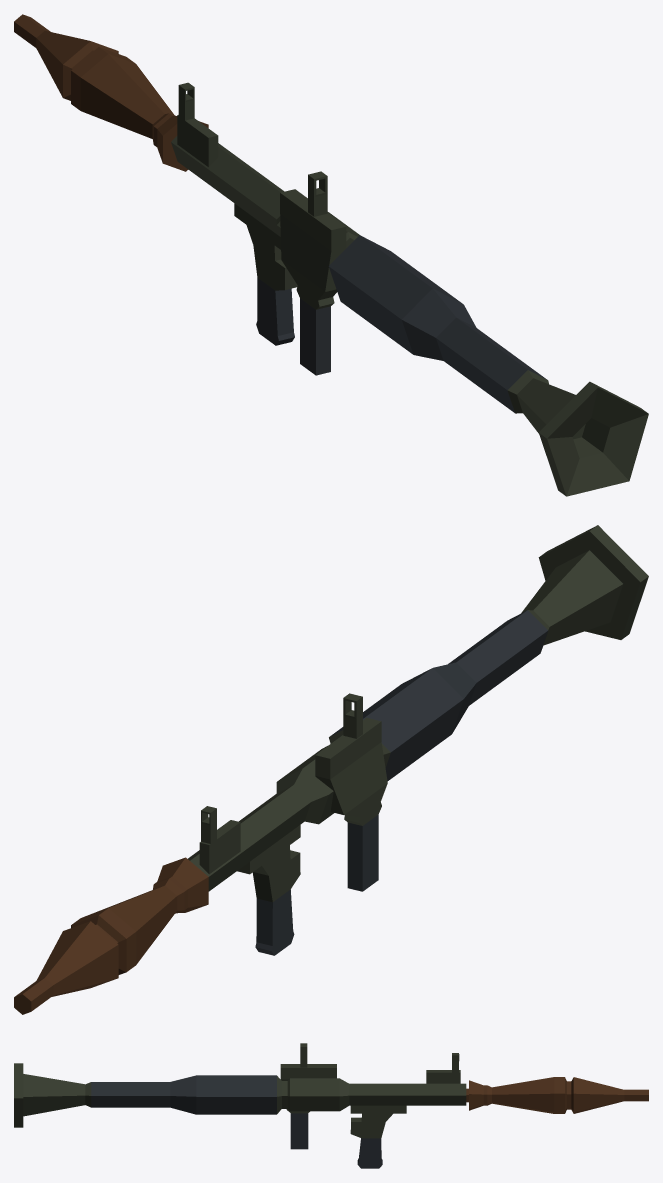
Rendered from launcher.obj.
The picture shows the model from 3 angles, top to bottom: view 1: azimuth 30°, elevation 25°; view 2: azimuth 150°, elevation 25°; view 3: azimuth 270°, elevation 25°; orthographic projection. The views are drawn at different scales.
Visible parts, largest first — view 1: Circle_Circle.001; view 2: Circle_Circle.001; view 3: Circle_Circle.001.
Part boxes in pixels (x1,y1,x2,y2): Circle_Circle.001: (14,14,648,496); Circle_Circle.001: (14,525,648,1014); Circle_Circle.001: (14,1043,648,1168).
Size of the model in its own units: 0.2024 by 0.4002 by 1.98.
